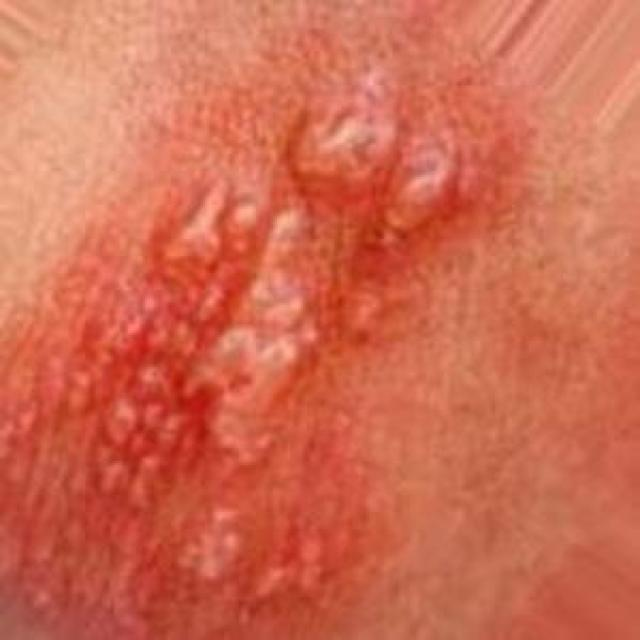Shingles: (43, 67, 488, 610)
